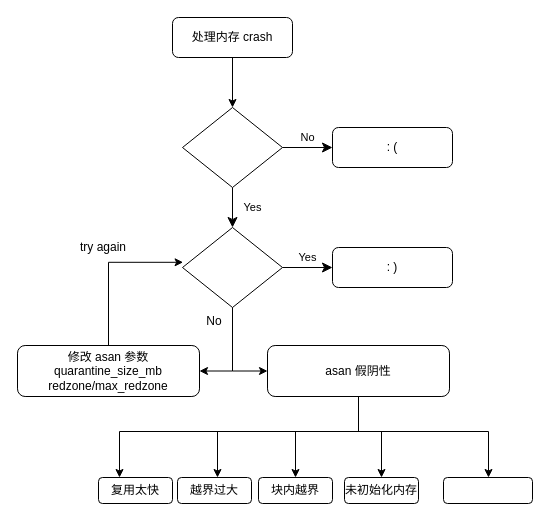
Image size: 550x521. Some labels were removed from this diagram. Each missing label, with the centre of its shape:
多线程未同步: (487,490)
能不能 重现?: (232,147)
配合 asan 能不能重现？: (232,267)
